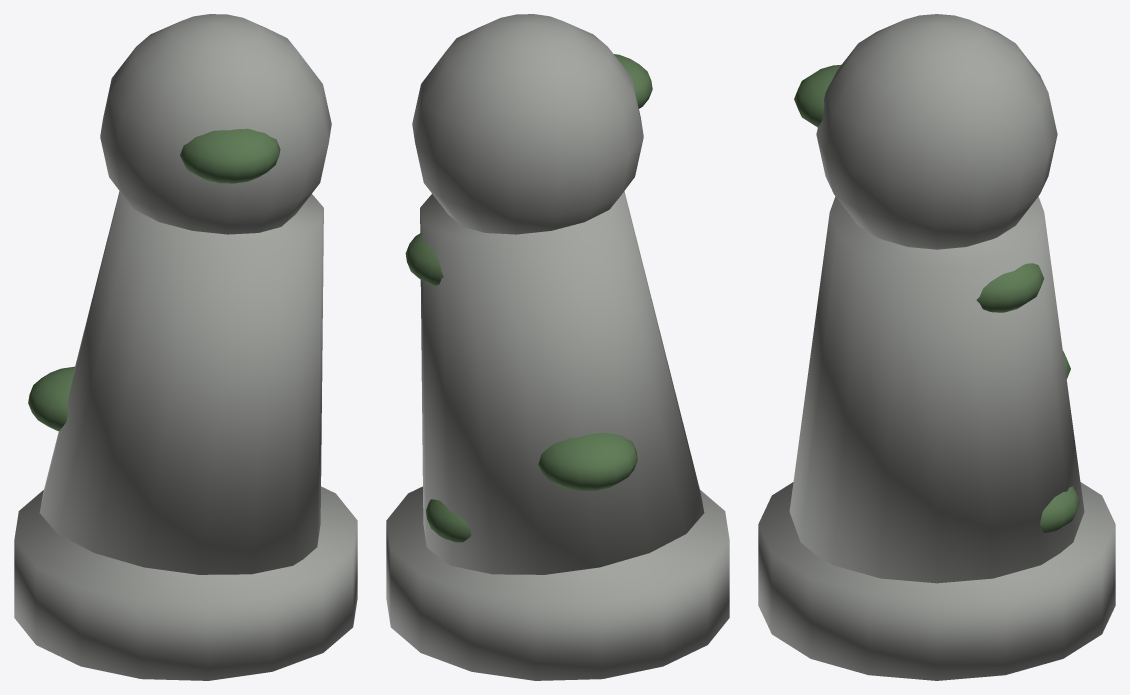
Rendered from prop_koke_jizo.glb.
The picture shows the model from 3 angles, left to right: view 1: azimuth 30°, elevation 25°; view 2: azimuth 150°, elevation 25°; view 3: azimuth 270°, elevation 25°; orthographic projection. The views are drawn at different scales.
Visible parts, largest first — view 1: koke_jizo; view 2: koke_jizo; view 3: koke_jizo.
Part boxes in pixels (left/top/right/bottom): koke_jizo: left=14, top=14, right=357, bottom=680; koke_jizo: left=386, top=14, right=729, bottom=680; koke_jizo: left=758, top=14, right=1115, bottom=680.
Bounding box in the file's own units: 0.8 × 1.47 × 0.8.
